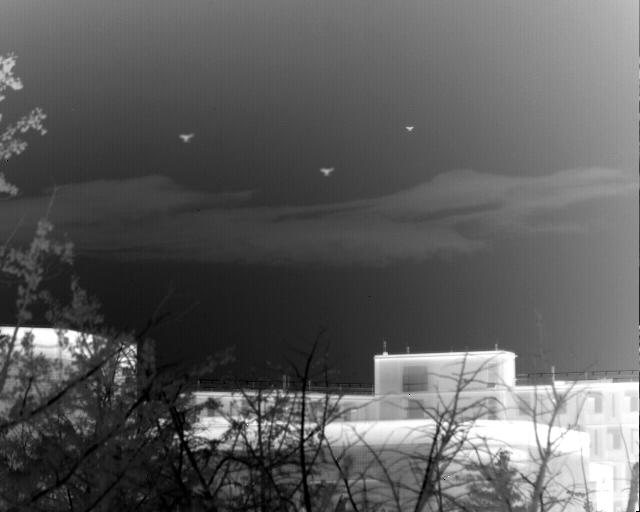plane: (178, 132, 194, 143), (319, 165, 335, 176), (405, 125, 414, 132)
